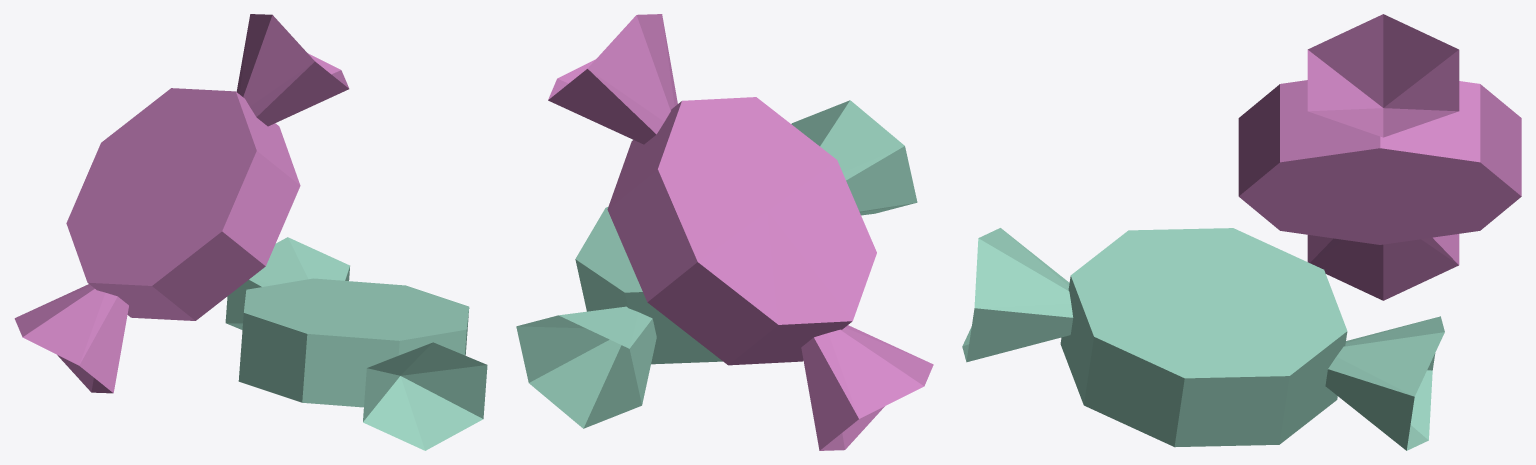
The model's file is Balinha.fbx.
3 views of the same model, side by side, from view 1: azimuth 30°, elevation 25°; view 2: azimuth 150°, elevation 25°; view 3: azimuth 270°, elevation 25° (orthographic). The views are drawn at different scales.
Parts seen in each view (by area): view 1: item.002_item.002_items.png.003, item.002_item.002_items.png.000; view 2: item.002_item.002_items.png.003, item.002_item.002_items.png.000; view 3: item.002_item.002_items.png.000, item.002_item.002_items.png.003.
Boxes of the visible parts, <box> form: item.002_item.002_items.png.003: <box>14,14,349,393</box>; item.002_item.002_items.png.000: <box>225,237,487,450</box>; item.002_item.002_items.png.003: <box>548,14,933,450</box>; item.002_item.002_items.png.000: <box>516,100,917,428</box>; item.002_item.002_items.png.000: <box>962,228,1444,450</box>; item.002_item.002_items.png.003: <box>1238,14,1521,300</box>.
Bounding box in the file's own units: 122 × 113 × 140.
